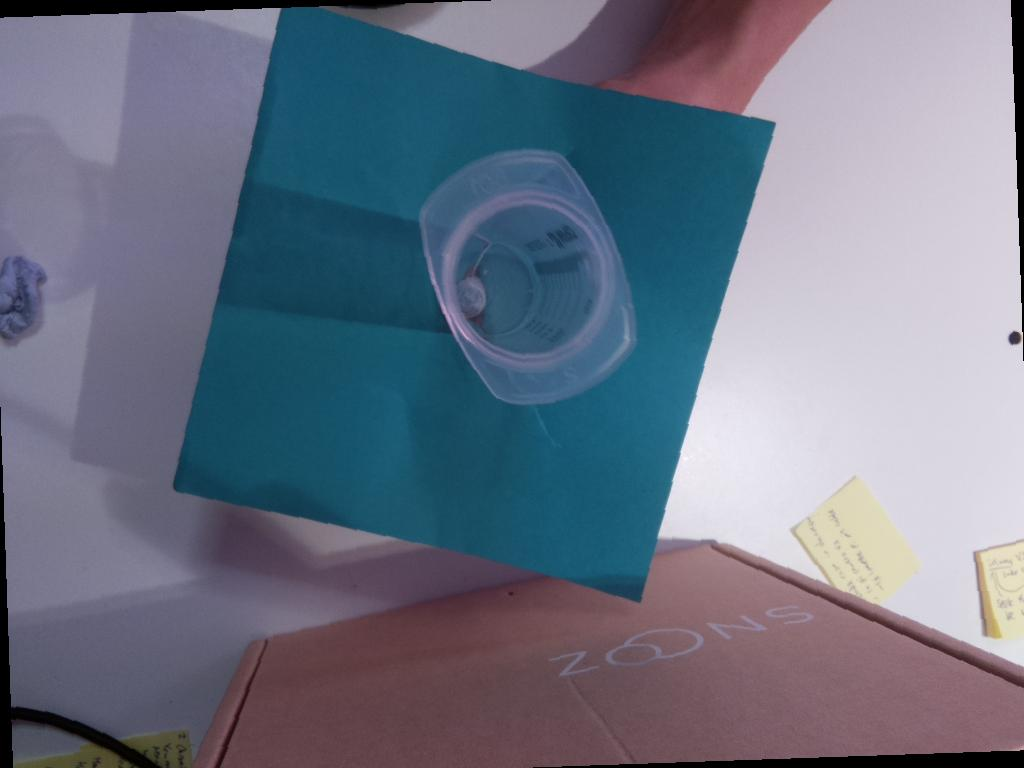clean: (420, 147, 639, 404)
